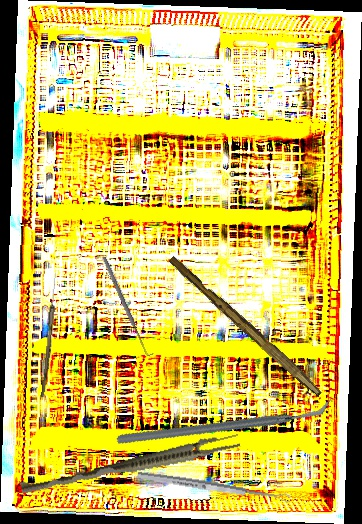Chopper: (114, 345, 335, 499)
Hook Surgical: (100, 254, 155, 358)
Scalpel Handle: (165, 254, 327, 398)
Surgical Spoon: (137, 470, 291, 504), (41, 272, 58, 398)
Tissue Forceps: (19, 428, 242, 503)
